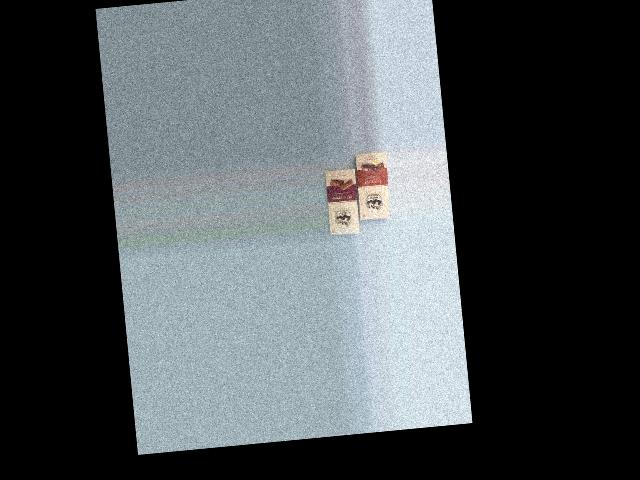chocolate: (347, 150, 393, 223)
